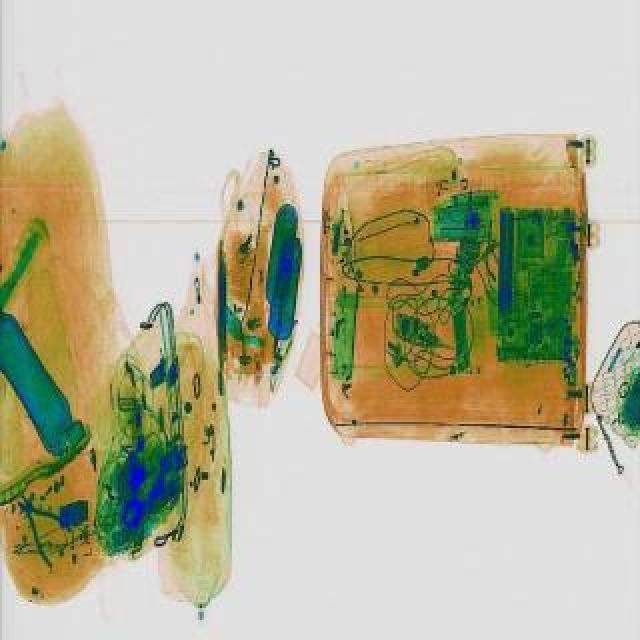wrench: (0, 480, 86, 570)
